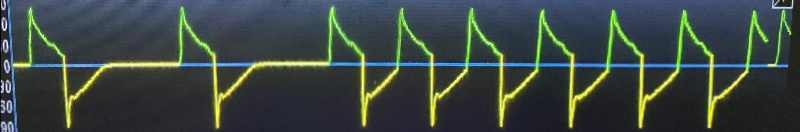normal_flow: (16, 0, 727, 132)
